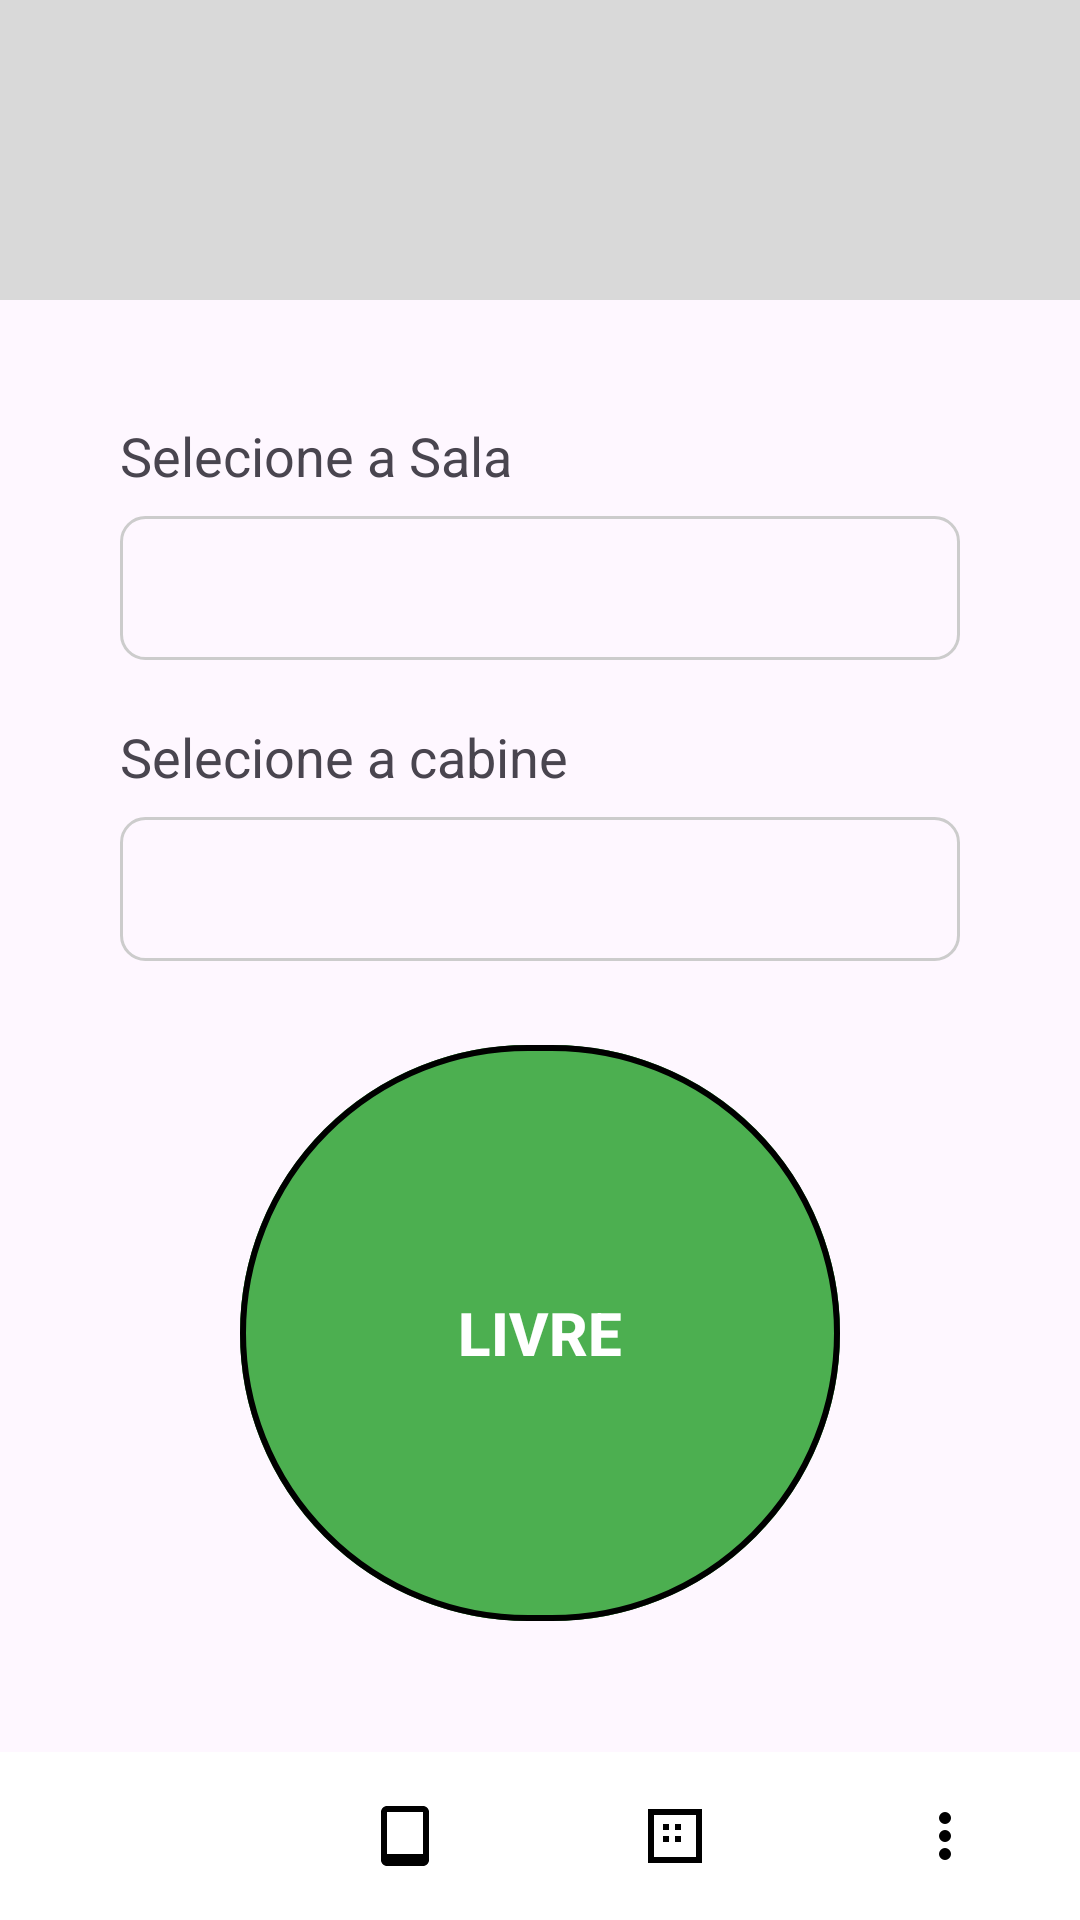

Locate icon controls on the screen. Image size 1080px×1920px, boxes as box=[x1, y1, x2, y2].
More: box=[939, 1812, 951, 1860]
Motherboard: box=[648, 1809, 702, 1863]
